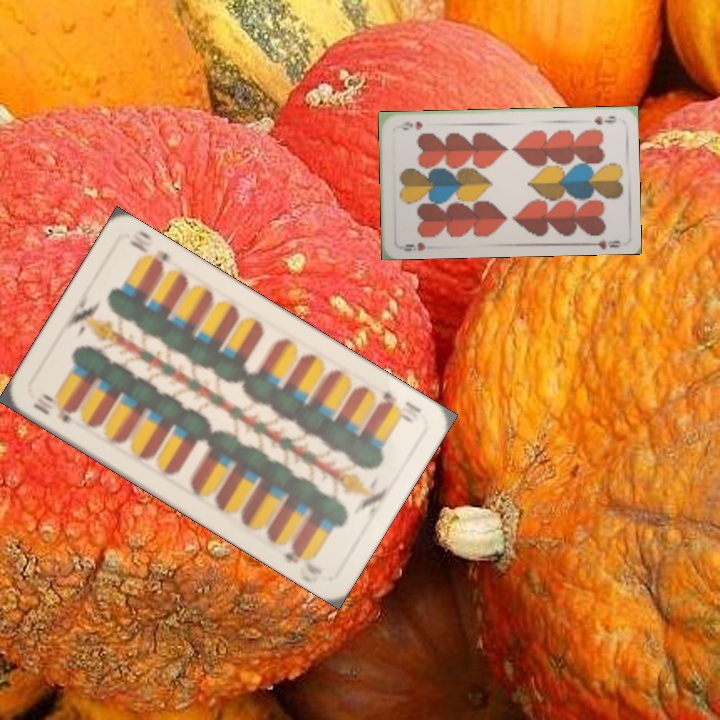E10: (375, 387, 424, 427), (29, 389, 78, 426)
H9: (396, 238, 428, 253), (591, 112, 619, 127)
